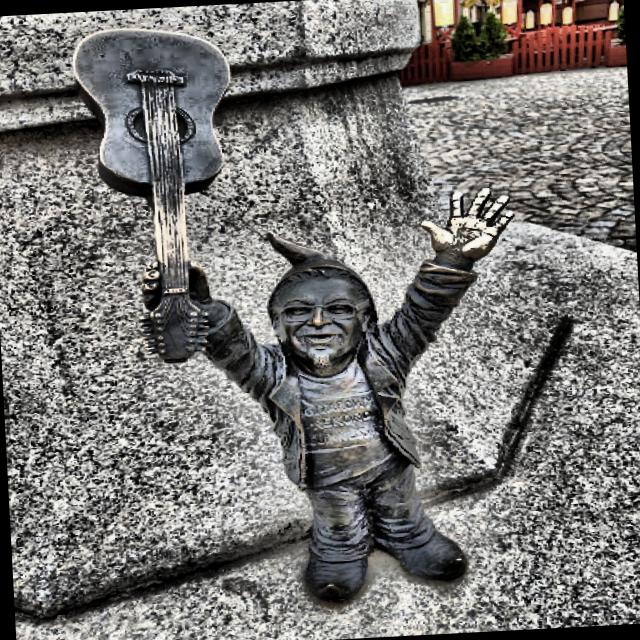Leszko_z_Wroclawia: (72, 31, 511, 605)
